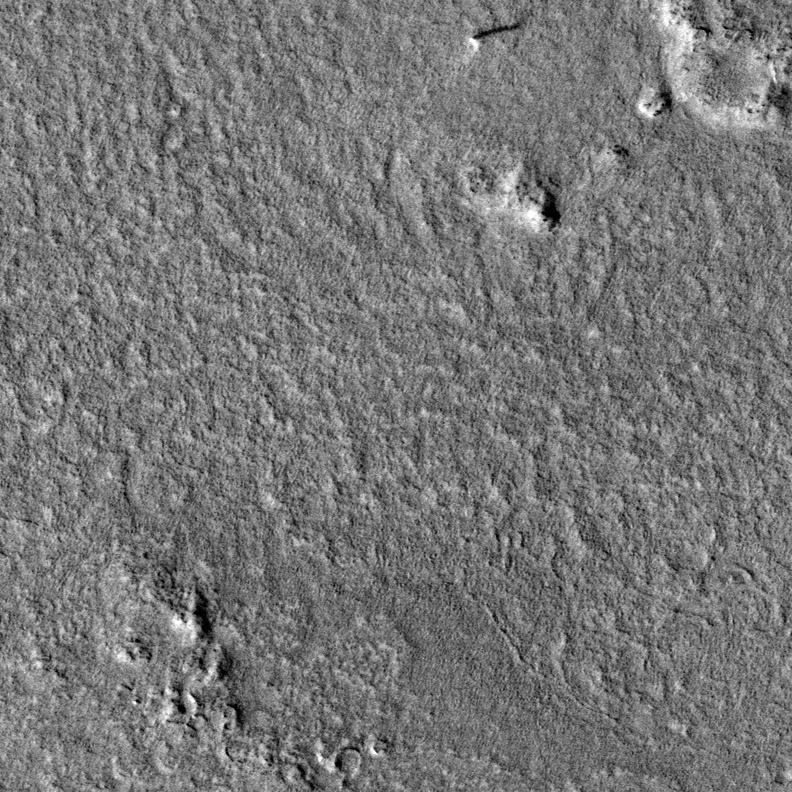dust_devil: (467, 21, 521, 53)
